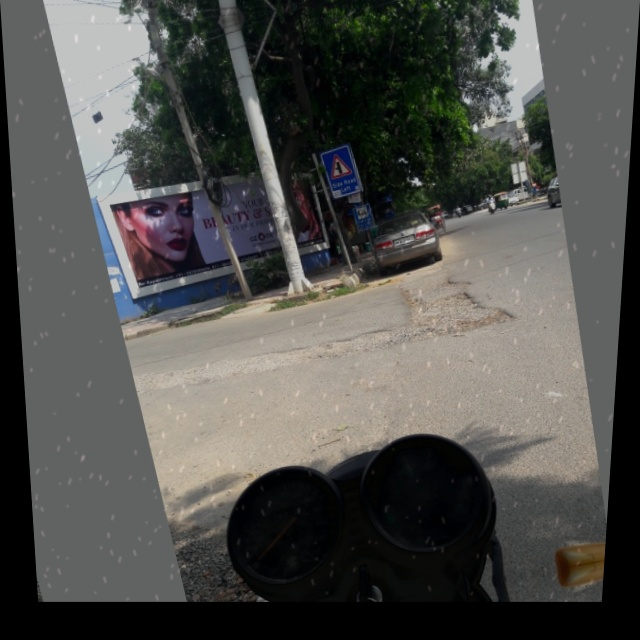Side_Road_Left: (322, 147, 358, 185)
